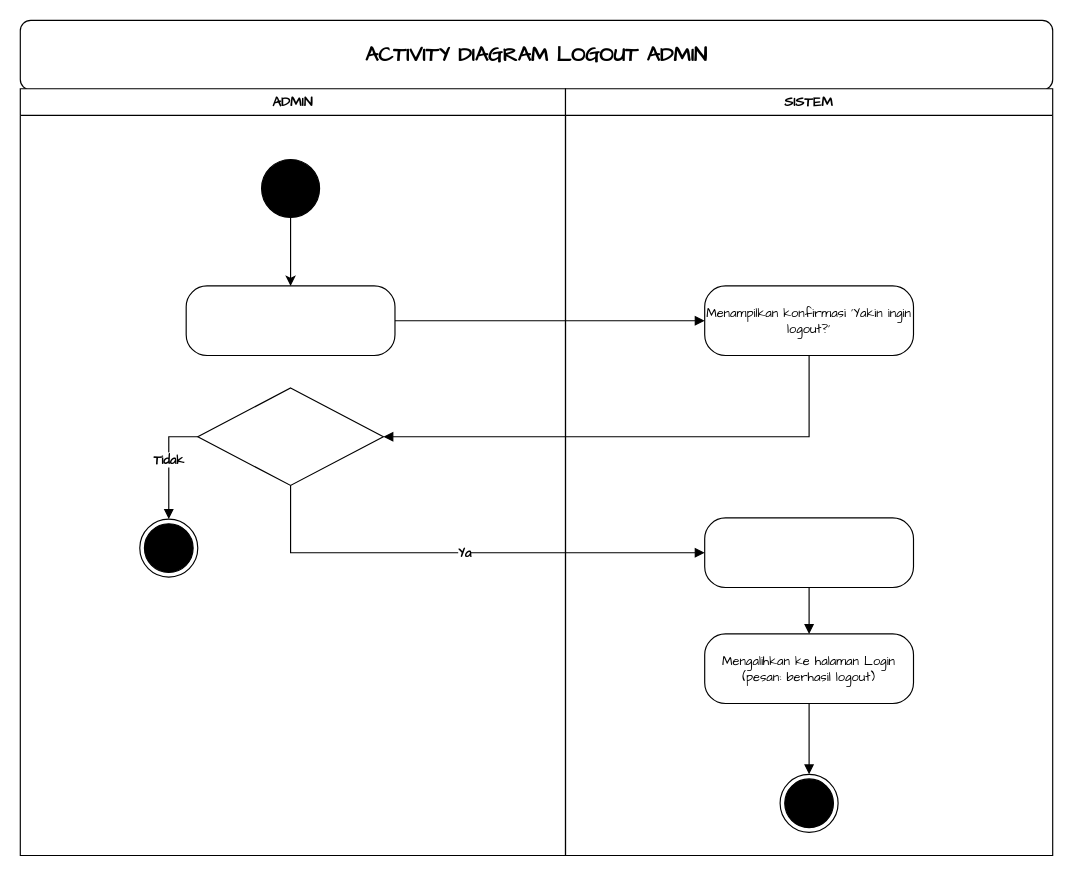
Image size: 1073x876. Some labels were removed from this diagram. The shapes that lost their labels are listed below. From the top down, each one's box as (x1, y1, x2, y2) in pixels, then its label:
(185, 285, 395, 356): Klik menu 'Logout'
(197, 387, 383, 485): Setuju logout?
(704, 517, 913, 588): Menghapus session (session_unset & session_destroy)
